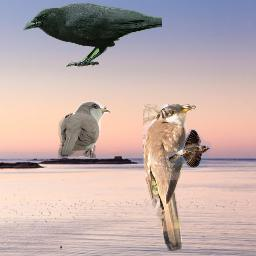Crow: (23, 3, 162, 68)
Cuckoo: (143, 104, 196, 251), (58, 101, 110, 158)
Swallow: (168, 129, 211, 168)
